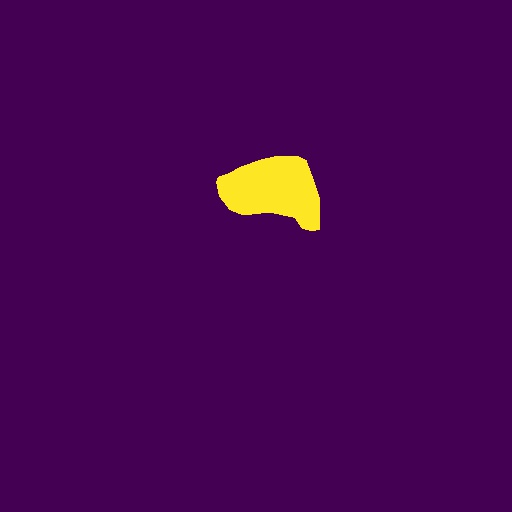Gliomia_tumour: (216, 156, 320, 231)
